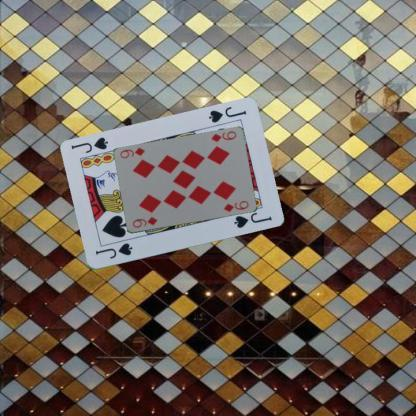9d: (208, 128, 238, 144), (130, 214, 158, 230)
Js: (92, 240, 134, 260), (206, 104, 248, 124)
